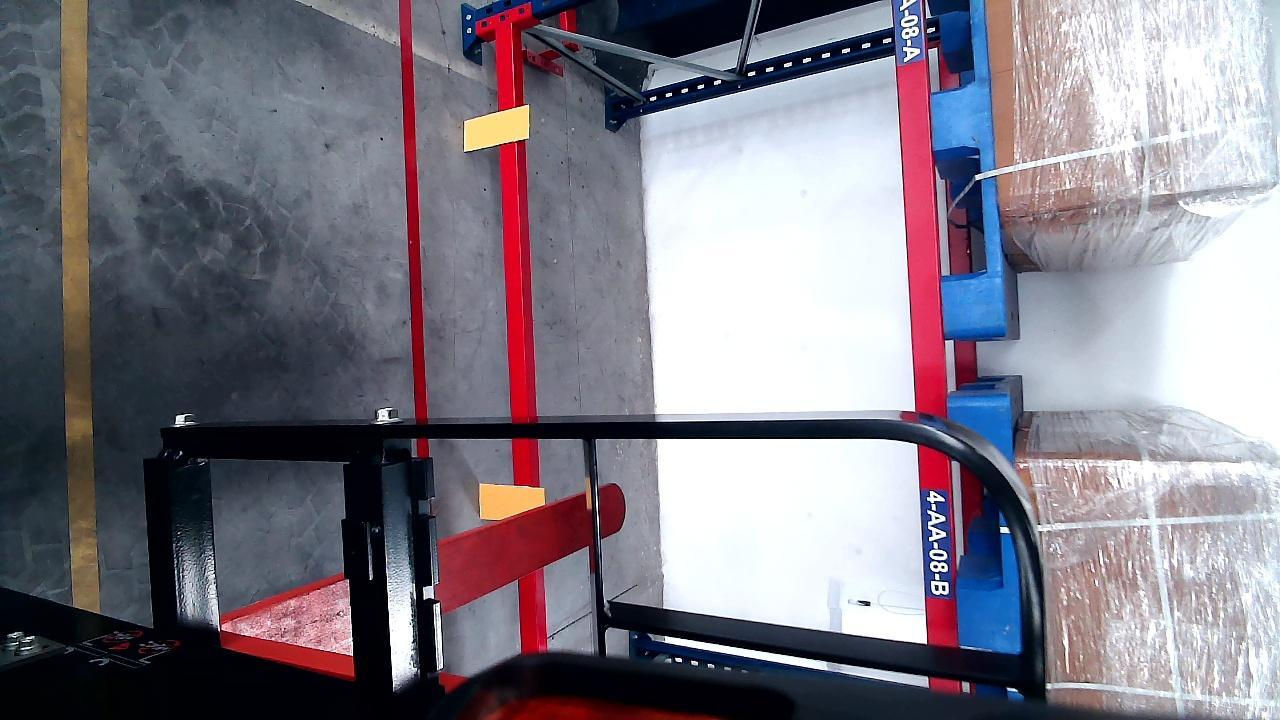red_line: (398, 0, 431, 428)
yellow_line: (59, 0, 98, 614)
